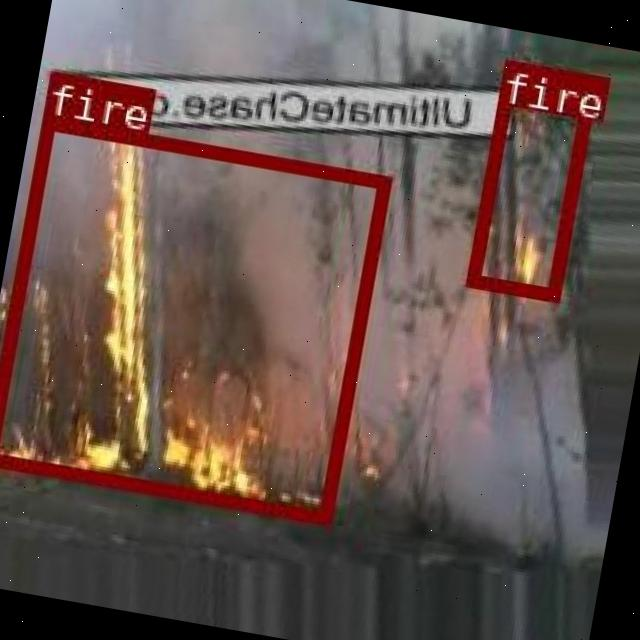fire: (0, 114, 389, 522), (466, 58, 594, 300)
